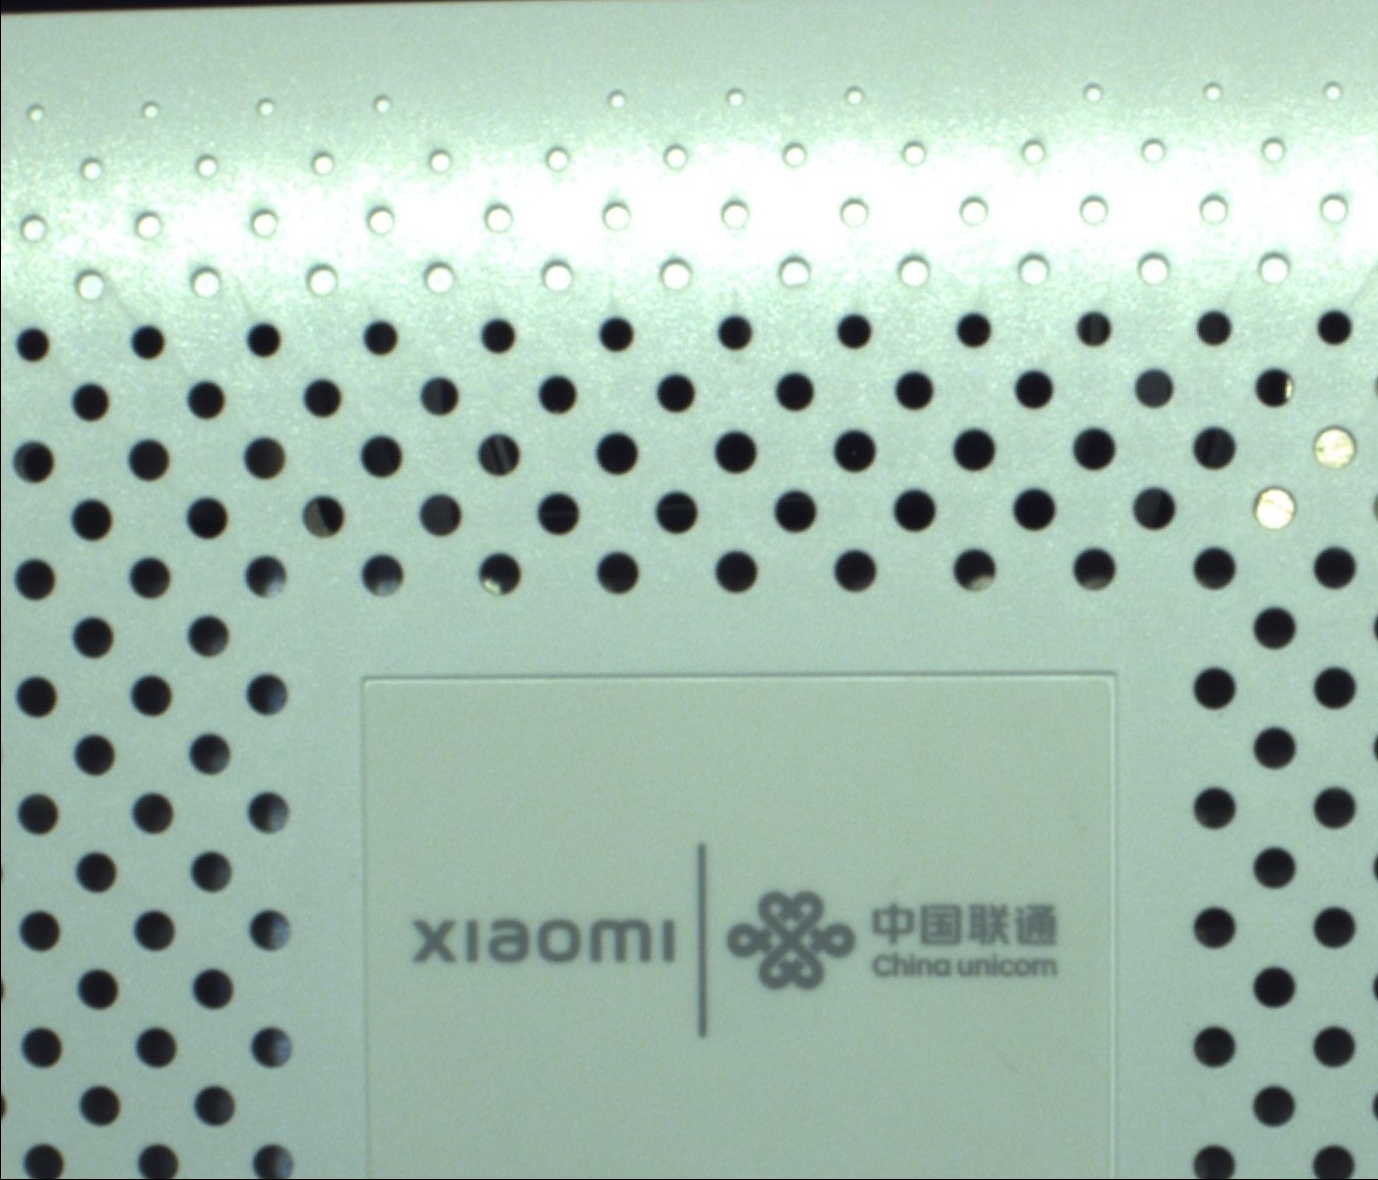MAC_NewUnicom: (395, 833, 1071, 1031)
